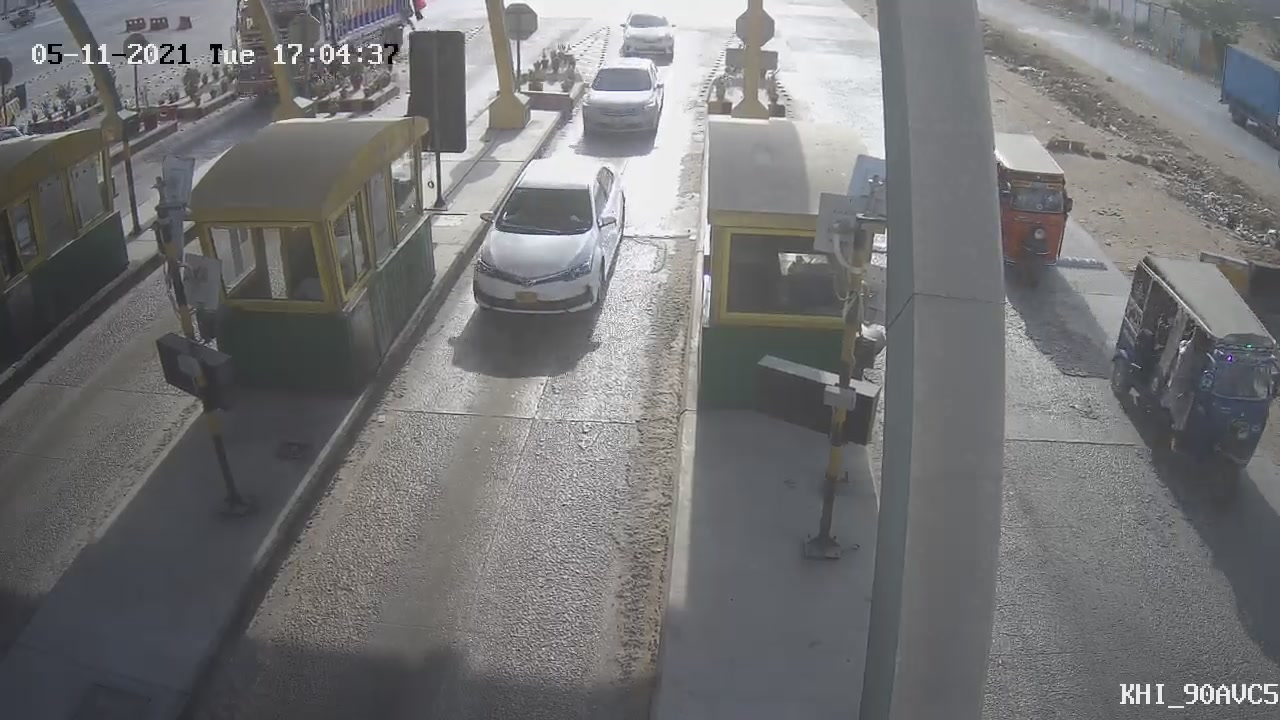F1: (446, 143, 651, 339), (561, 44, 686, 153)
